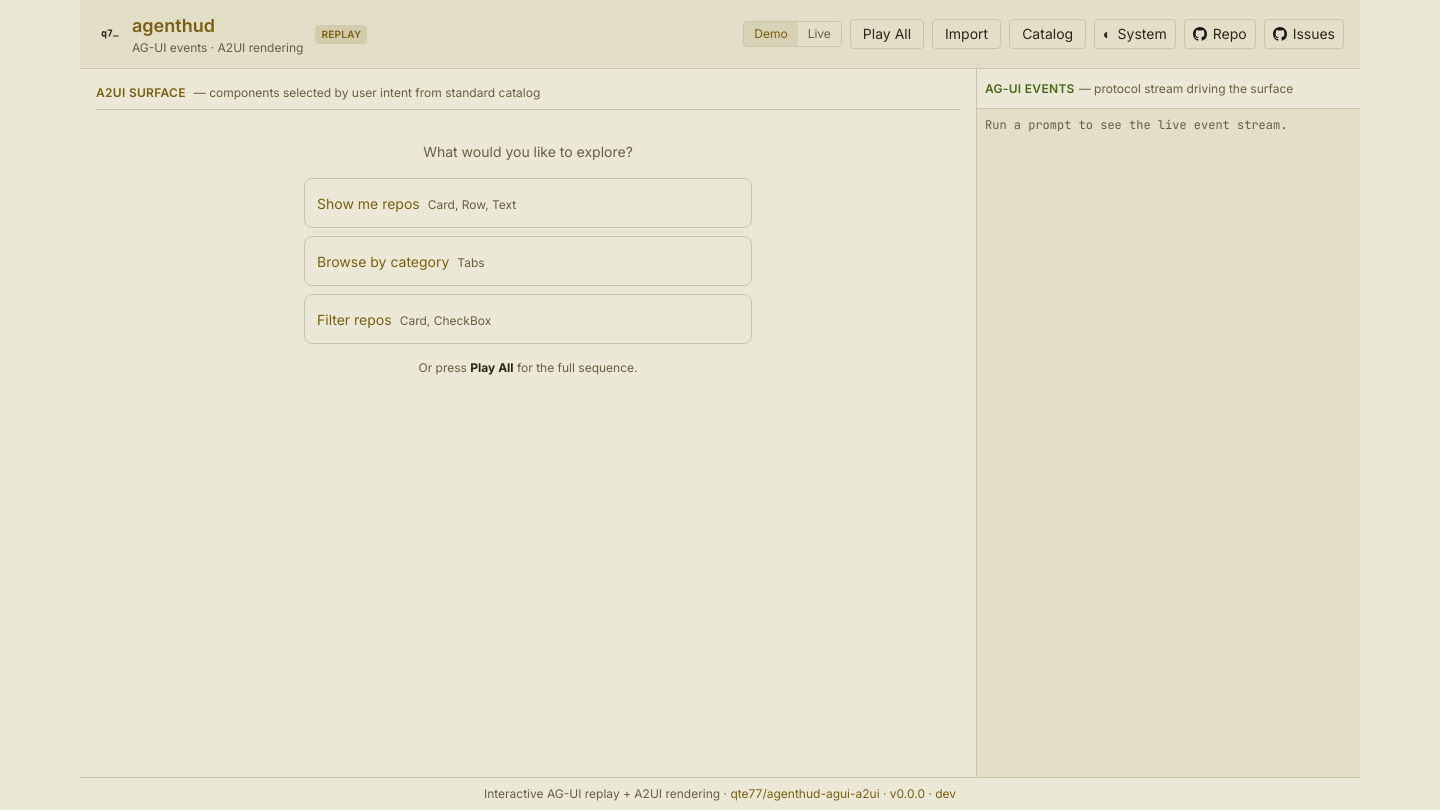
Scenario: App › Catalog button opens modal with component list
Click the button "Catalog": x=1048, y=34 [1009,19,1086,49]
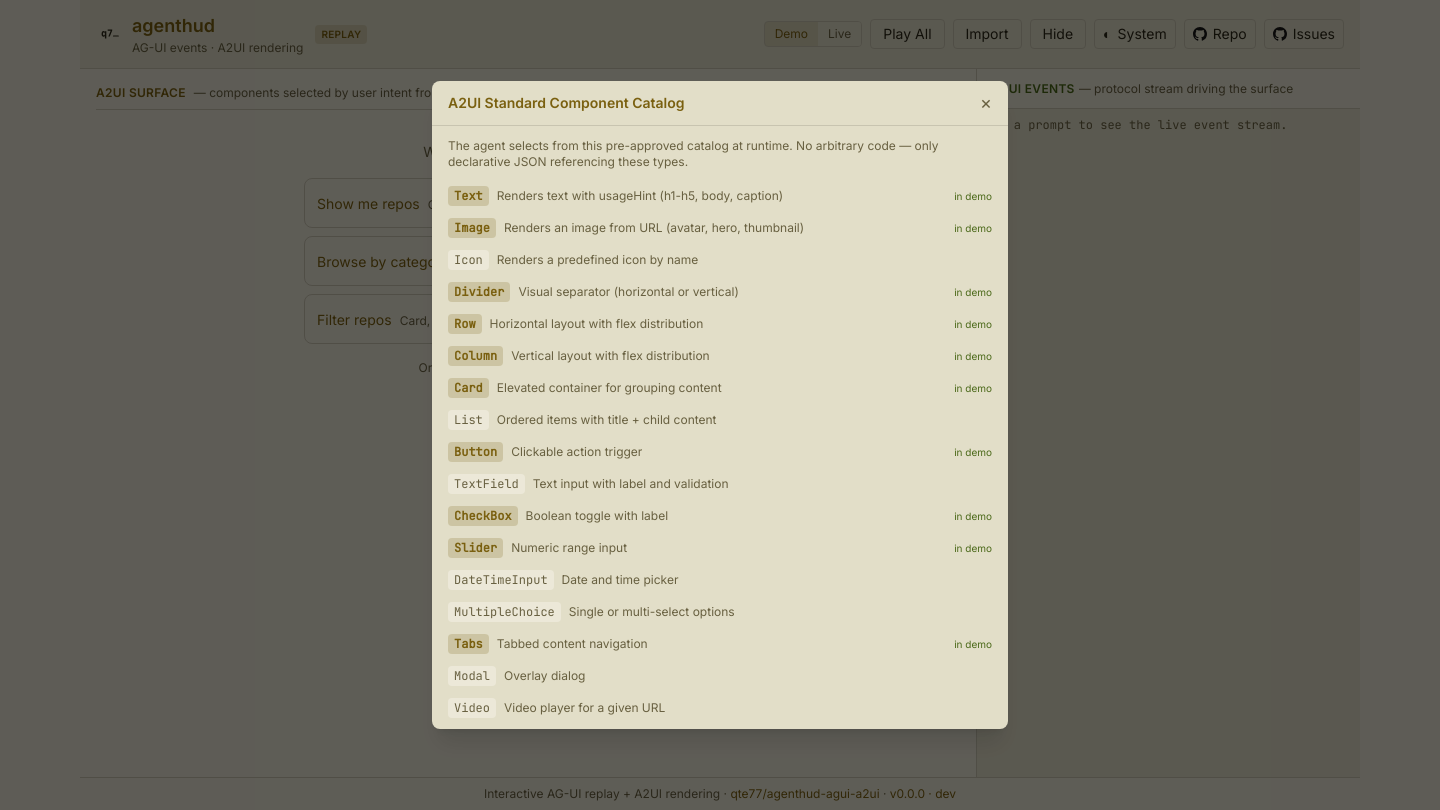
Now the heading "A2UI Standard Component Catalog" is shown, box [448,93,685,113]
Now the text "Text" is shown, box [448,186,489,206]
Now the text "Card" is shown, box [448,378,489,398]
